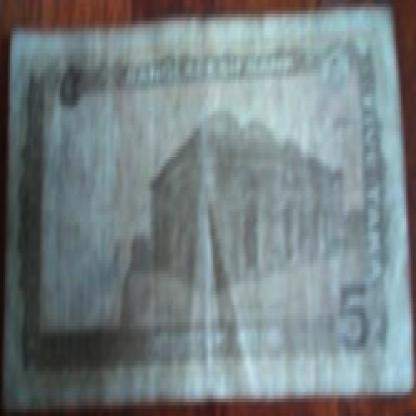Five Taka: (336, 274, 371, 353), (57, 52, 83, 114)
